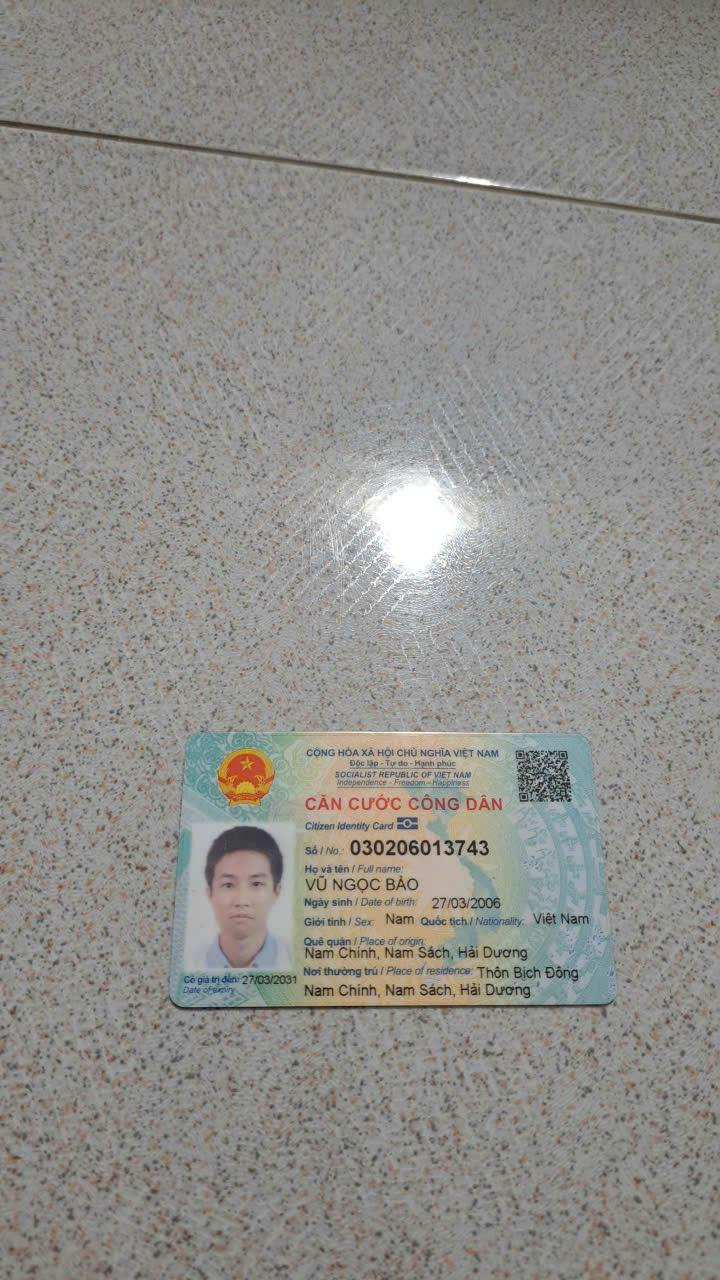cccd: (160, 718, 624, 1021)
